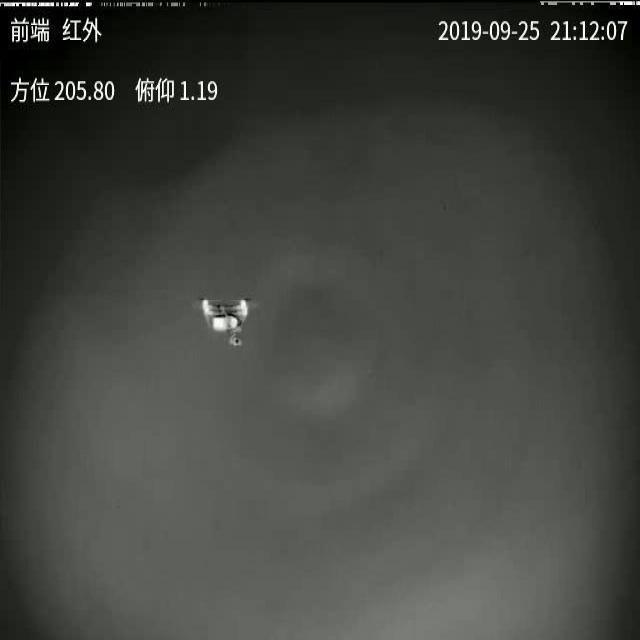drone: (194, 292, 262, 348)
